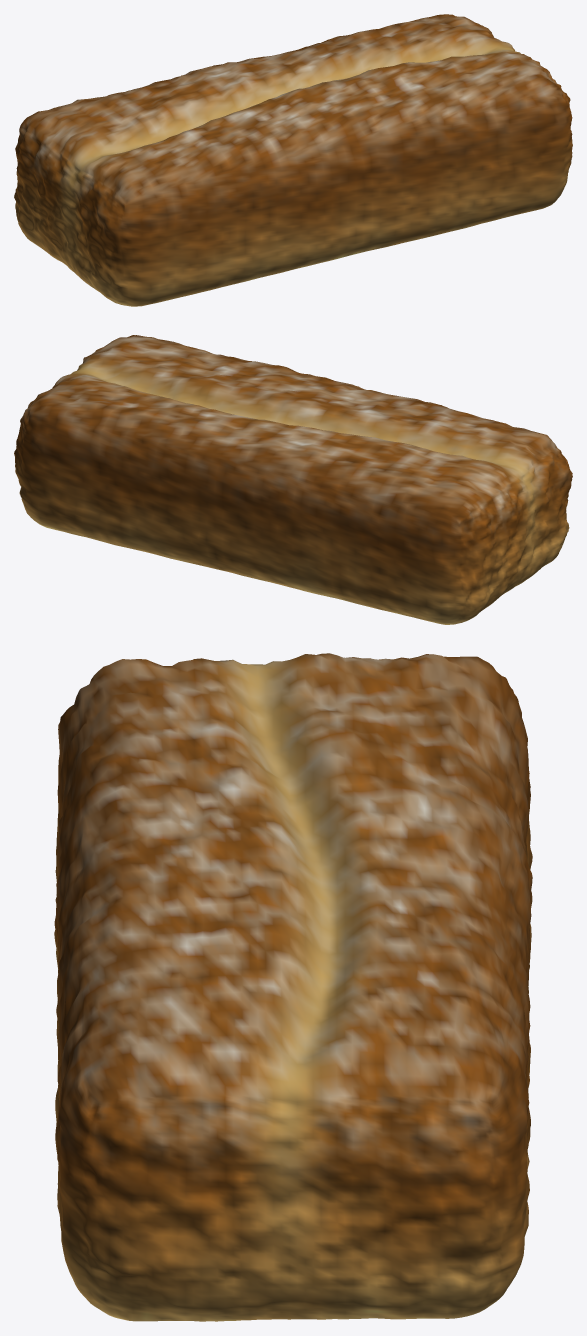
File: biscuit.glb
3 views of the same model, one above another, from view 1: azimuth 30°, elevation 25°; view 2: azimuth 150°, elevation 25°; view 3: azimuth 270°, elevation 25° (orthographic). The views are drawn at different scales.
Visible parts, largest first — view 1: biscuit; view 2: biscuit; view 3: biscuit.
Part boxes in pixels (left/top/right/bottom): biscuit: left=14, top=14, right=572, bottom=306; biscuit: left=14, top=335, right=572, bottom=624; biscuit: left=54, top=653, right=532, bottom=1321.
Bounding box in the file's own units: 1.02 × 0.2915 × 0.4497.
